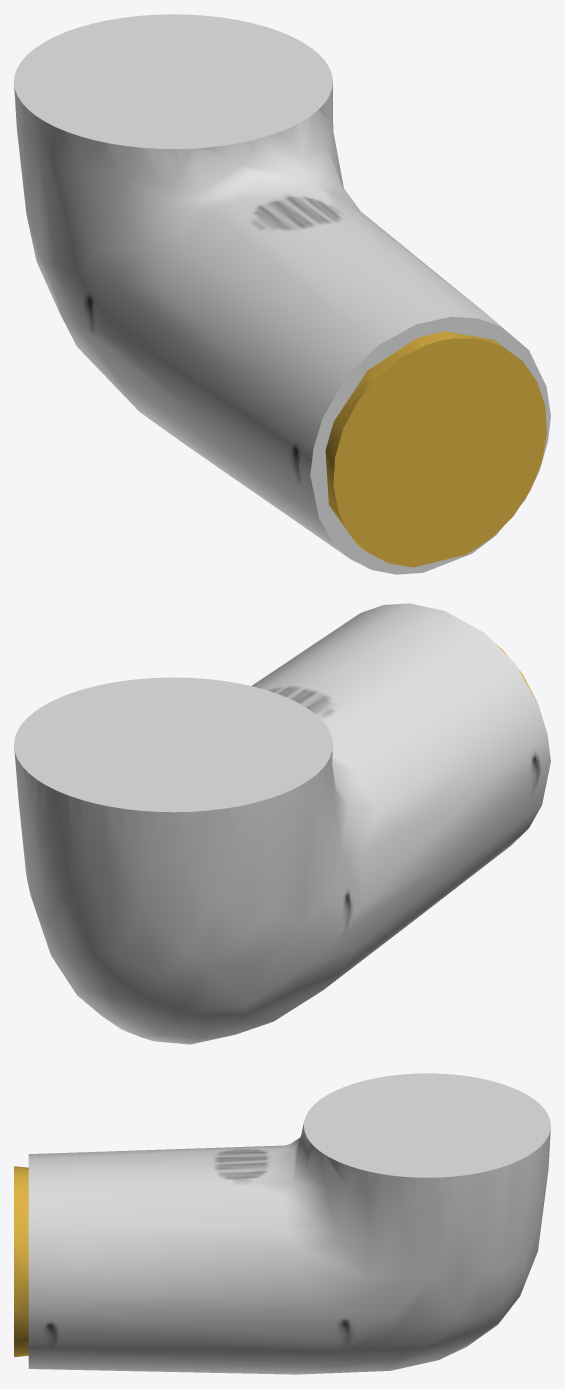
Rendered from link_shoulder.glb.
3 views of the same model, one above another, from view 1: azimuth 30°, elevation 25°; view 2: azimuth 150°, elevation 25°; view 3: azimuth 270°, elevation 25° (orthographic). The views are drawn at different scales.
Visible parts, largest first — view 1: link_shoulder.3obj; view 2: link_shoulder.3obj; view 3: link_shoulder.3obj.
Boxes of the visible parts, x1=… form: link_shoulder.3obj: x1=14, y1=14, x2=550, y2=574; link_shoulder.3obj: x1=14, y1=603, x2=550, y2=1044; link_shoulder.3obj: x1=14, y1=1073, x2=550, y2=1374.
Bounding box in the file's own units: 0.13 × 0.139 × 0.2824.
1 material, 1 textured.
